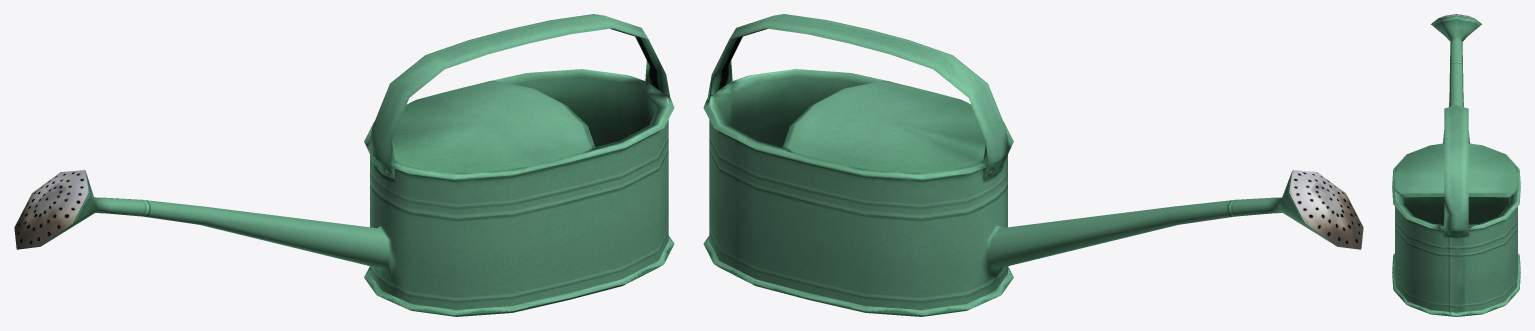
Rendered from Furniture_wateringcan_01a_LOD1.fbx.
The picture shows the model from 3 angles, left to right: view 1: azimuth 30°, elevation 25°; view 2: azimuth 150°, elevation 25°; view 3: azimuth 270°, elevation 25°; orthographic projection. The views are drawn at different scales.
Visible parts, largest first — view 1: Furniture_wateringcan_01a_LOD1; view 2: Furniture_wateringcan_01a_LOD1; view 3: Furniture_wateringcan_01a_LOD1.
Boxes of the visible parts, box(x1,y1,x2,y2) form: Furniture_wateringcan_01a_LOD1: box(14, 14, 674, 316); Furniture_wateringcan_01a_LOD1: box(703, 14, 1363, 316); Furniture_wateringcan_01a_LOD1: box(1392, 14, 1520, 316).
Size of the model in its own units: 80.24 by 27.71 by 22.
